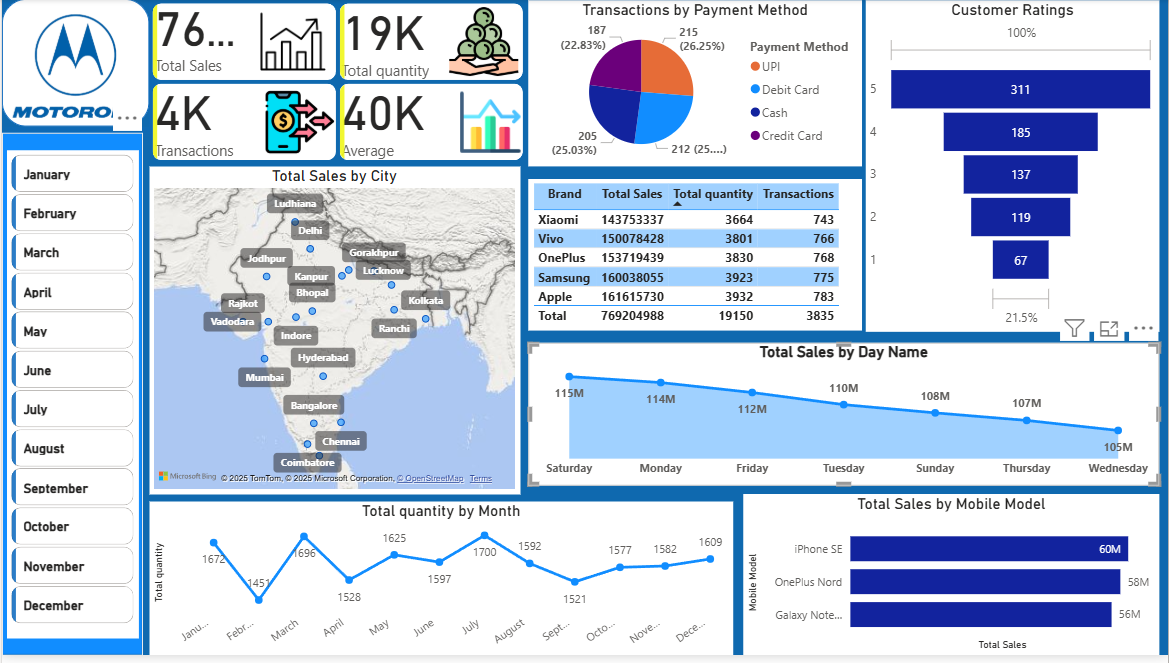

What the dashboard file says about the page in this screenshot:
{"tool":"powerbi","page":{"name":"Page 1","canvas":[1280,720],"ordinal":1},"visuals":[{"type":"shape","box":[0,0,161.7,139.9],"z":0},{"type":"image","box":[7.2,0,147.2,147.2],"z":1000},{"type":"shape","box":[0,147.2,154.4,573.1],"z":2000},{"type":"advancedSlicerVisual","fields":{"Values":["sales_data30.Date.Variation.Date Hierarchy.Month"]},"box":[4.8,166.5,144.8,535.7],"z":3000},{"type":"cardVisual","fields":{"Data":["sales_data30.Total Sales","sales_data30.Total quantity","sales_data30.Transactions","sales_data30.Average"]},"box":[160.5,0,417.4,183.4],"z":4000},{"type":"map","fields":{"Category":["sales_data30.City"]},"box":[161.9,183.9,406.2,359.5],"z":5000},{"type":"lineChart","fields":{"Y":["sales_data30.Total quantity"],"Category":["sales_data30.Date.Variation.Date Hierarchy.Month"]},"box":[161.7,551.3,640.6,168.9],"z":6000},{"type":"barChart","fields":{"Category":["sales_data30.Mobile Model"],"Y":["sales_data30.Total Sales"]},"box":[813.7,543.4,456.9,177],"z":7000},{"type":"pieChart","fields":{"Category":["sales_data30.Payment Method"],"Y":["sales_data30.Transactions"]},"box":[577.7,1.4,366.4,182.5],"z":8000},{"type":"funnel","title":"Customer Ratings ","fields":{"Category":["sales_data30.Customer Ratings"],"Y":["CountNonNull(sales_data30.Customer Ratings)"]},"box":[948.2,1.4,322.5,363.6],"z":9000},{"type":"areaChart","fields":{"Y":["sales_data30.Total Sales"],"Category":["sales_data30.Day Name"]},"box":[577.7,377.4,693,156.4],"z":10000},{"type":"tableEx","fields":{"Values":["sales_data30.Brand","sales_data30.Total Sales","sales_data30.Total quantity","sales_data30.Transactions"]},"box":[577.7,197.6,366.4,166],"z":11000}]}

Visuals, with their boxes in screenshot pixels (x1, y1, x2, y2), scaled from the page's 1280x720 canvas onto the 1169x663 screenshot:
shape: <region>0, 0, 148, 129</region>
image: <region>7, 0, 141, 136</region>
shape: <region>0, 136, 141, 662</region>
advancedSlicerVisual - sales_data30.Date.Variation.Date Hierarchy.Month: <region>4, 153, 137, 647</region>
cardVisual - sales_data30.Total Sales x sales_data30.Total quantity: <region>147, 0, 528, 169</region>
map - sales_data30.City: <region>148, 169, 519, 500</region>
lineChart - sales_data30.Total quantity x sales_data30.Date.Variation.Date Hierarchy.Month: <region>148, 508, 733, 662</region>
barChart - sales_data30.Mobile Model x sales_data30.Total Sales: <region>743, 500, 1160, 662</region>
pieChart - sales_data30.Payment Method x sales_data30.Transactions: <region>528, 1, 862, 169</region>
"Customer Ratings " funnel: <region>866, 1, 1161, 336</region>
areaChart - sales_data30.Total Sales x sales_data30.Day Name: <region>528, 348, 1161, 492</region>
tableEx - sales_data30.Brand x sales_data30.Total Sales: <region>528, 182, 862, 335</region>
